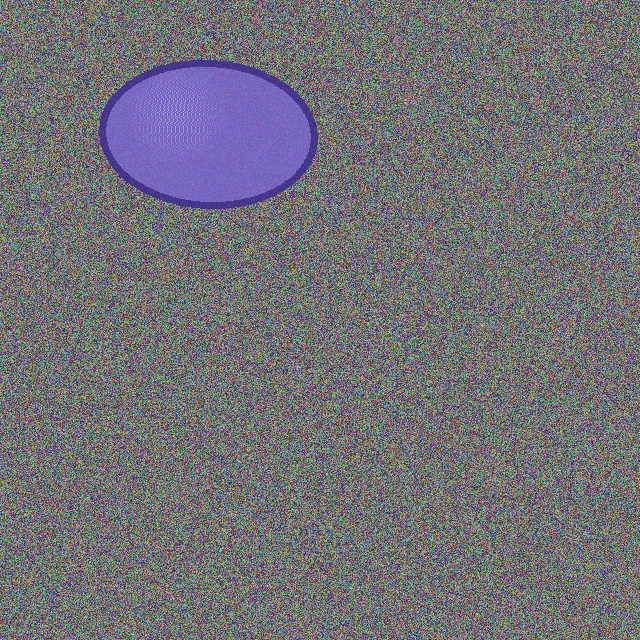lens: (102, 63, 314, 205)
